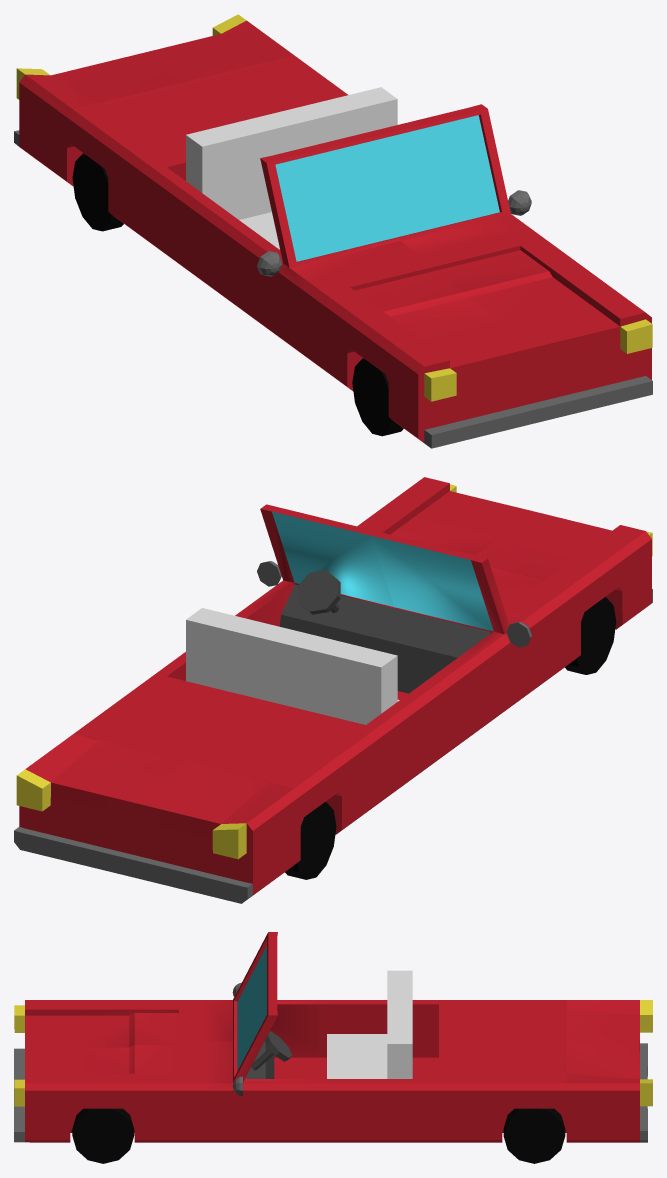
Rendered from CarrodeJefe.fbx.
3 views of the same model, one above another, from view 1: azimuth 30°, elevation 25°; view 2: azimuth 150°, elevation 25°; view 3: azimuth 270°, elevation 25° (orthographic). The views are drawn at different scales.
Parts seen in each view (by area): view 1: auto_GEO, asiento_GEO, ruedas_GEO, retro_GEO; view 2: auto_GEO, asiento_GEO, timontablero_GEO, ruedas_GEO, retro_GEO; view 3: auto_GEO, ruedas_GEO, asiento_GEO, timontablero_GEO.
Boxes of the visible parts, x1=… form: auto_GEO: x1=14, y1=14, x2=652, y2=448; asiento_GEO: x1=186, y1=87, x2=397, y2=249; ruedas_GEO: x1=72, y1=153, x2=403, y2=436; retro_GEO: x1=257, y1=190, x2=531, y2=276; auto_GEO: x1=14, y1=477, x2=652, y2=903; asiento_GEO: x1=186, y1=608, x2=399, y2=724; timontablero_GEO: x1=279, y1=570, x2=490, y2=693; ruedas_GEO: x1=285, y1=597, x2=616, y2=879; retro_GEO: x1=257, y1=561, x2=531, y2=647; auto_GEO: x1=14, y1=932, x2=652, y2=1142; ruedas_GEO: x1=72, y1=1108, x2=565, y2=1163; asiento_GEO: x1=327, y1=970, x2=412, y2=1078; timontablero_GEO: x1=245, y1=1031, x2=292, y2=1078.
Bounding box in the file's own units: 3.75 × 2.52 × 9.84.
